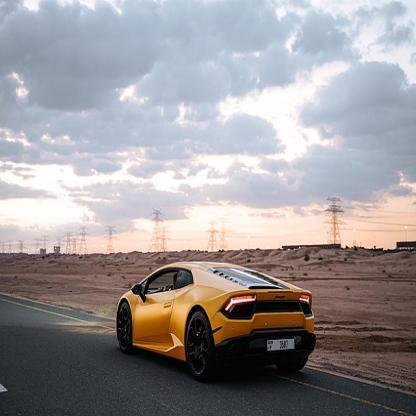car: (123, 260, 305, 375)
